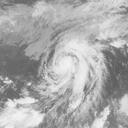cyclone: (44, 38, 102, 101)
